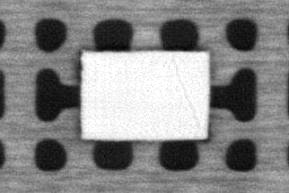DIE_CRACK: (174, 60, 200, 128)
